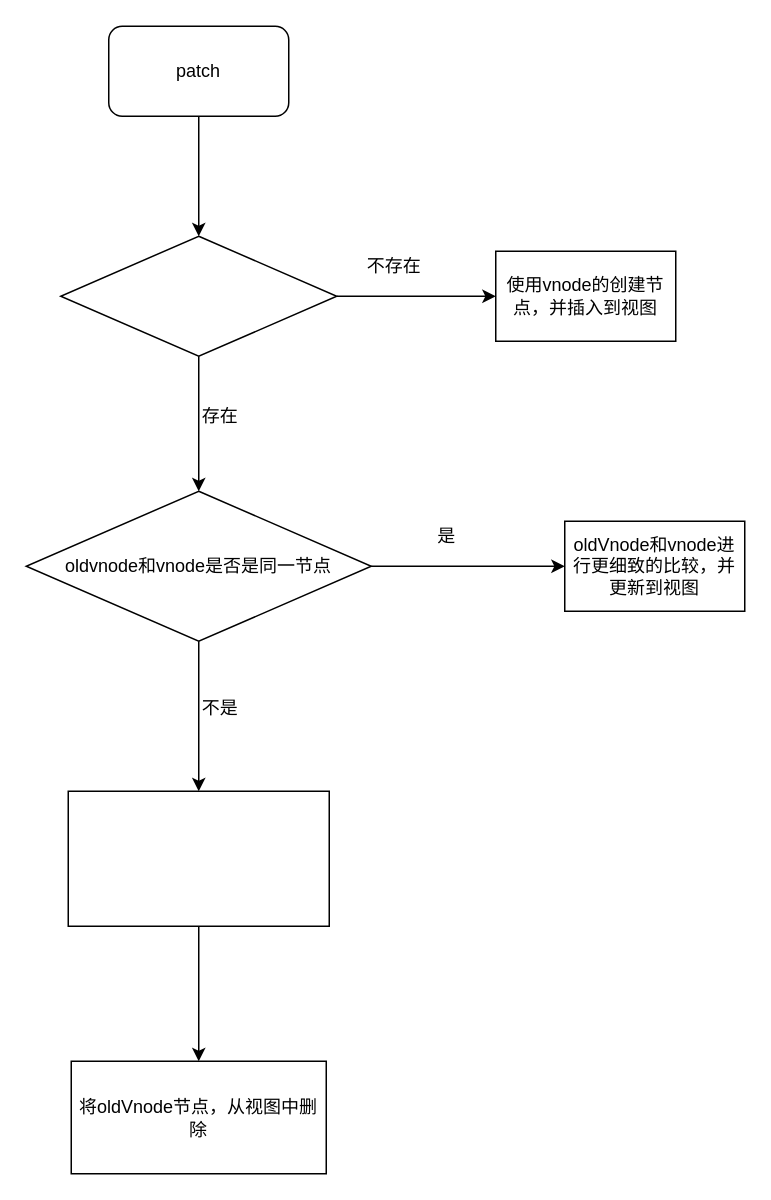
This 771x1200 diagram has some shape labels left out. The centre of each missing label's shape, as x and y in pixels:
oldVnode节点是否存在: (198,295)
使用vnode创建节点并插入到oldVnode视图节点旁边: (198,858)
